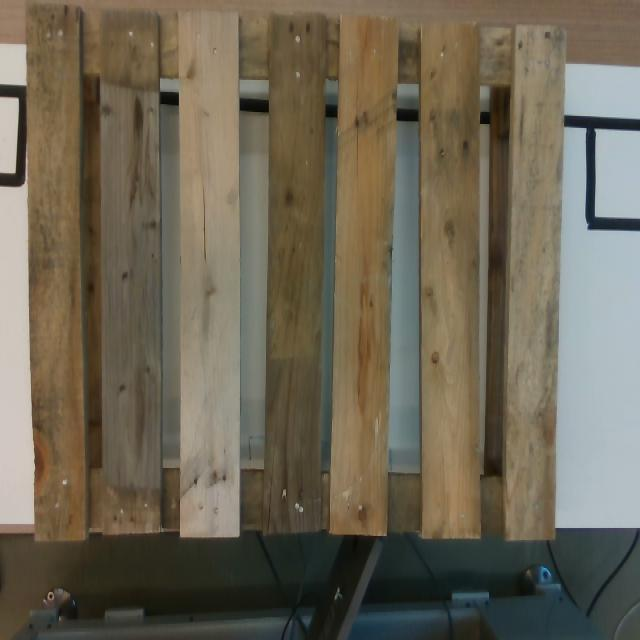pallet: (21, 1, 566, 544)
